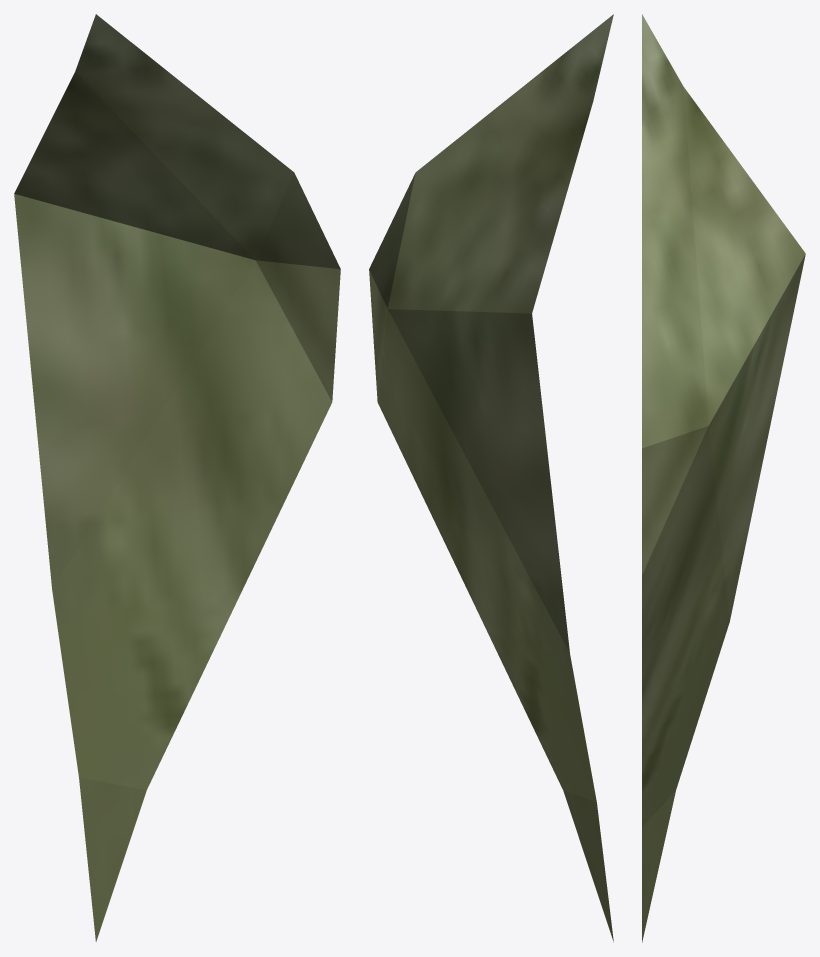
The picture shows the model from 3 angles, left to right: view 1: azimuth 30°, elevation 25°; view 2: azimuth 150°, elevation 25°; view 3: azimuth 270°, elevation 25°; orthographic projection.
Size of the model in its own units: 0.2823 by 1.02 by 0.1634.
Materials: 1 (1 with a texture image).
